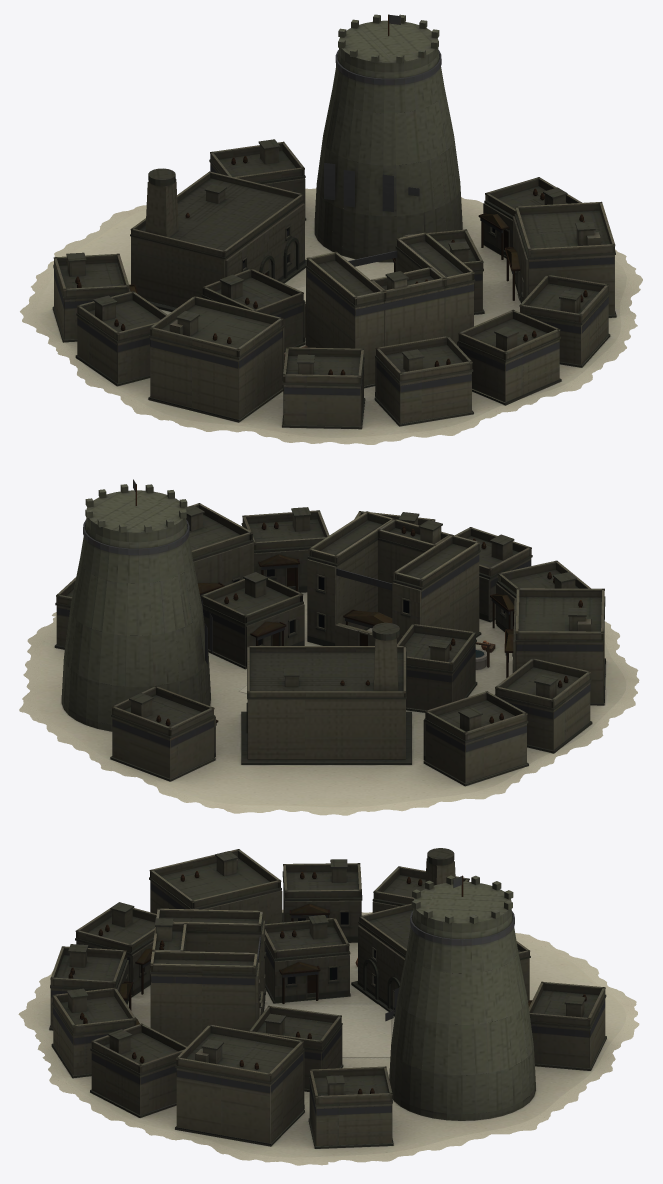
Rendered from classical-town-medium-a-eastafrica.glb.
3 views of the same model, one above another, from view 1: azimuth 30°, elevation 25°; view 2: azimuth 150°, elevation 25°; view 3: azimuth 270°, elevation 25° (orthographic).
Visible parts, largest first — view 1: LOD0; view 2: LOD0; view 3: LOD0.
Part boxes in pixels (x1,y1,x2,y2): LOD0: (20, 14, 642, 444); LOD0: (19, 479, 639, 815); LOD0: (18, 848, 639, 1165).
Size of what is drawn, in the model's own units: 5.95 by 2.28 by 6.05.
3 materials, 3 textured.
